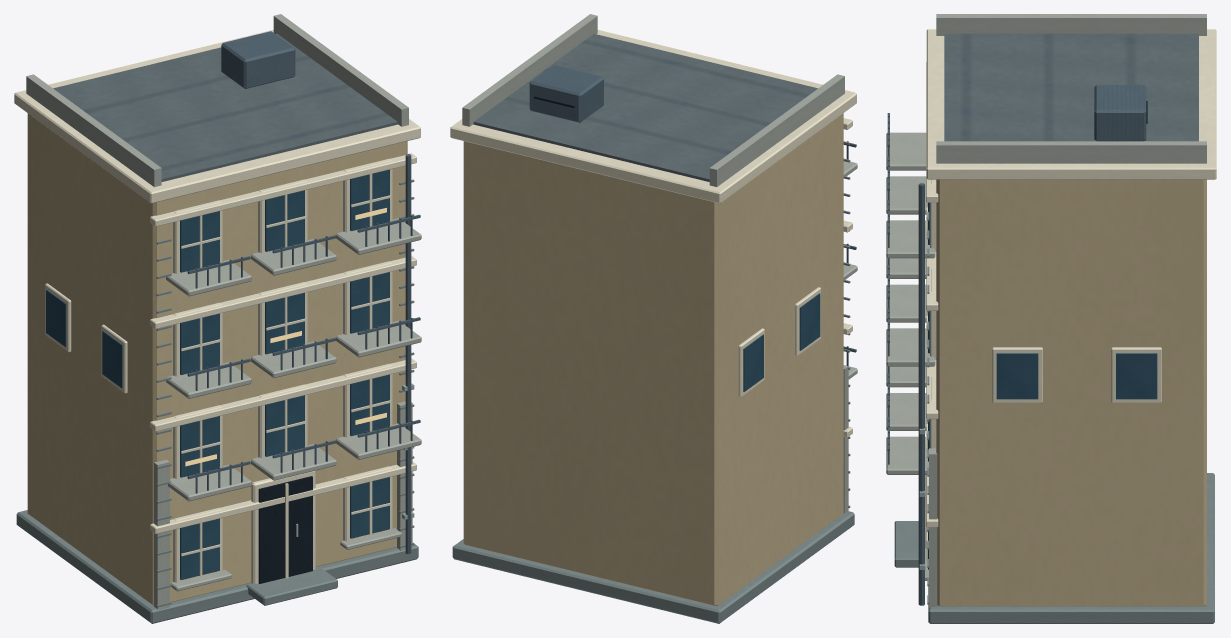
The model's file is apartment-intact.glb.
The picture shows the model from 3 angles, left to right: view 1: azimuth 30°, elevation 25°; view 2: azimuth 150°, elevation 25°; view 3: azimuth 270°, elevation 25°; orthographic projection. The views are drawn at different scales.
Parts seen in each view (by area): view 1: apartment-intact; view 2: apartment-intact; view 3: apartment-intact.
Part boxes in pixels (<box>): apartment-intact: <box>14,14,421,623</box>; apartment-intact: <box>450,14,857,623</box>; apartment-intact: <box>886,14,1216,623</box>.
Bounding box in the file's own units: 5.74 × 9.41 × 5.74.
Materials: 4 (4 with a texture image).
